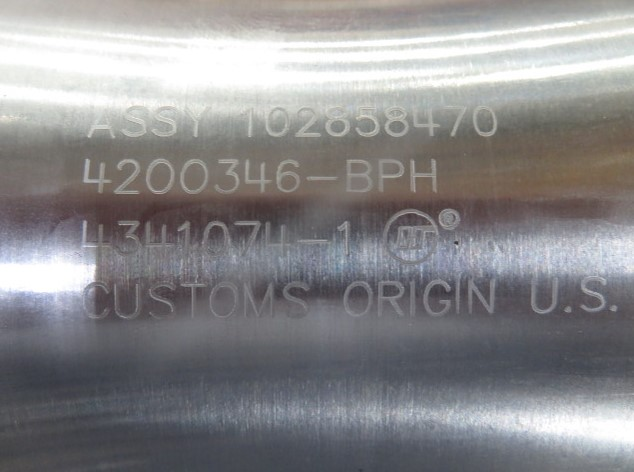character: (198, 211, 234, 265), (401, 155, 446, 197), (239, 278, 278, 321), (78, 277, 113, 324), (176, 155, 214, 198), (277, 278, 313, 323), (144, 158, 180, 202), (112, 217, 145, 265), (79, 218, 113, 264), (145, 279, 180, 323), (231, 214, 263, 261), (343, 153, 375, 199), (78, 154, 112, 197), (109, 280, 143, 323), (112, 156, 145, 200), (144, 218, 177, 262), (422, 277, 454, 322), (526, 273, 560, 315), (408, 104, 443, 144), (341, 279, 376, 319), (464, 277, 499, 317), (209, 280, 241, 322), (579, 272, 607, 320), (243, 153, 274, 196), (178, 104, 213, 142), (264, 219, 294, 263), (330, 219, 362, 260), (375, 278, 405, 321), (176, 280, 208, 320), (376, 155, 405, 199), (172, 216, 199, 262), (151, 103, 182, 142), (212, 156, 242, 196), (121, 104, 152, 141), (88, 105, 118, 141), (472, 101, 499, 141), (322, 103, 351, 140), (351, 103, 381, 138), (276, 157, 302, 197), (292, 105, 322, 139), (441, 102, 468, 139), (382, 106, 410, 140), (265, 106, 290, 140), (236, 107, 260, 140), (449, 274, 464, 318), (406, 278, 419, 321)
